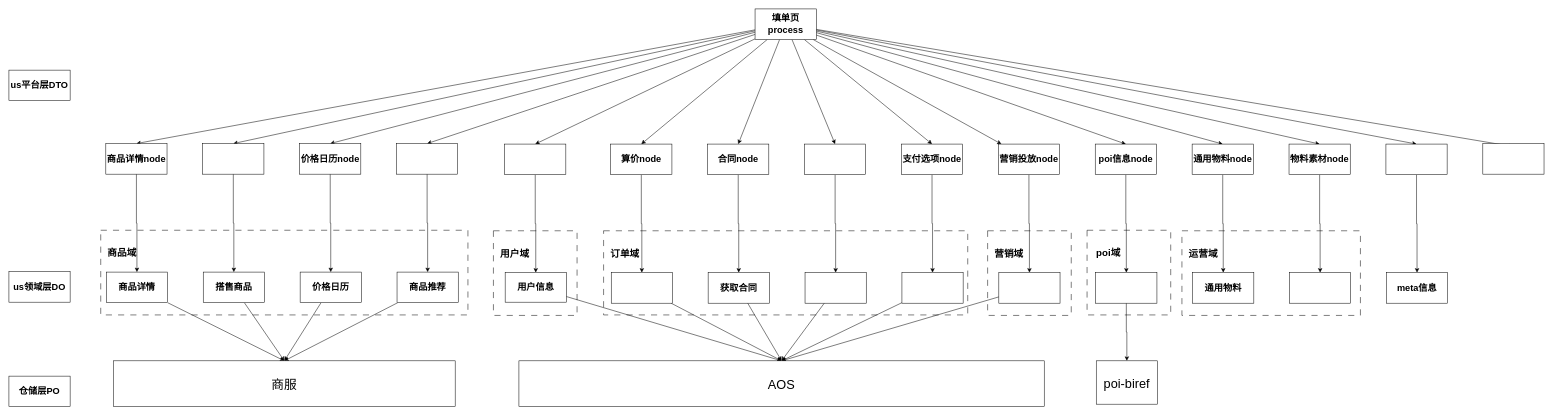
Image size: 1553x416. Some labels were removed from this diagram. The shapes that lost their labels are listed below. From the top down, each one's centre as x and y in pixels, then its label:
(x=233, y=158): 搭售node
(x=427, y=158): 商品推荐node
(x=535, y=159): 用户信息node
(x=835, y=159): 订单信息node
(x=1416, y=159): meta信息node
(x=1513, y=158): 渲染node
(x=641, y=287): 订单算价
(x=835, y=287): 订单信息
(x=932, y=287): 支付选项
(x=1029, y=287): 营销投放
(x=1126, y=287): poi信息
(x=1320, y=287): 物料素材
